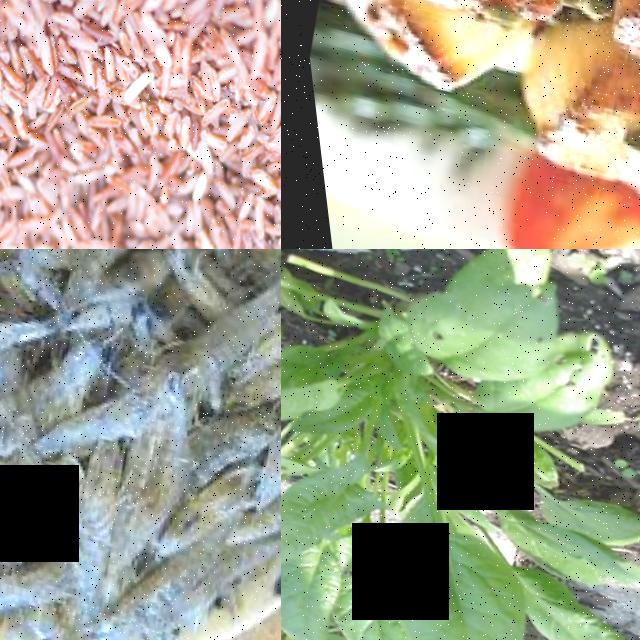red rice: (0, 0, 281, 249)
sea scallops: (498, 30, 640, 204)
shrimp: (18, 434, 135, 630), (163, 249, 281, 405), (0, 527, 63, 640), (76, 249, 204, 286)
spinach: (394, 249, 572, 392), (352, 523, 536, 640), (461, 371, 587, 450), (500, 574, 640, 640), (524, 485, 640, 556), (311, 572, 393, 640), (281, 559, 333, 633)
